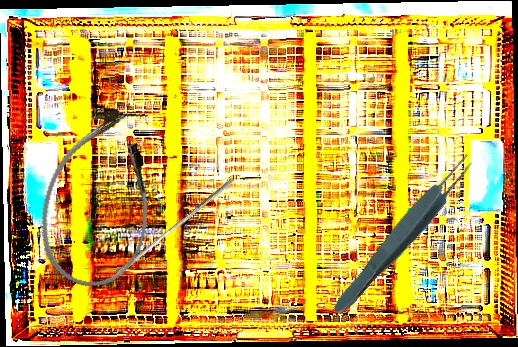Cannula: (27, 94, 173, 299)
Pusher: (114, 173, 236, 280)
Tissue Forceps: (326, 148, 482, 321)
